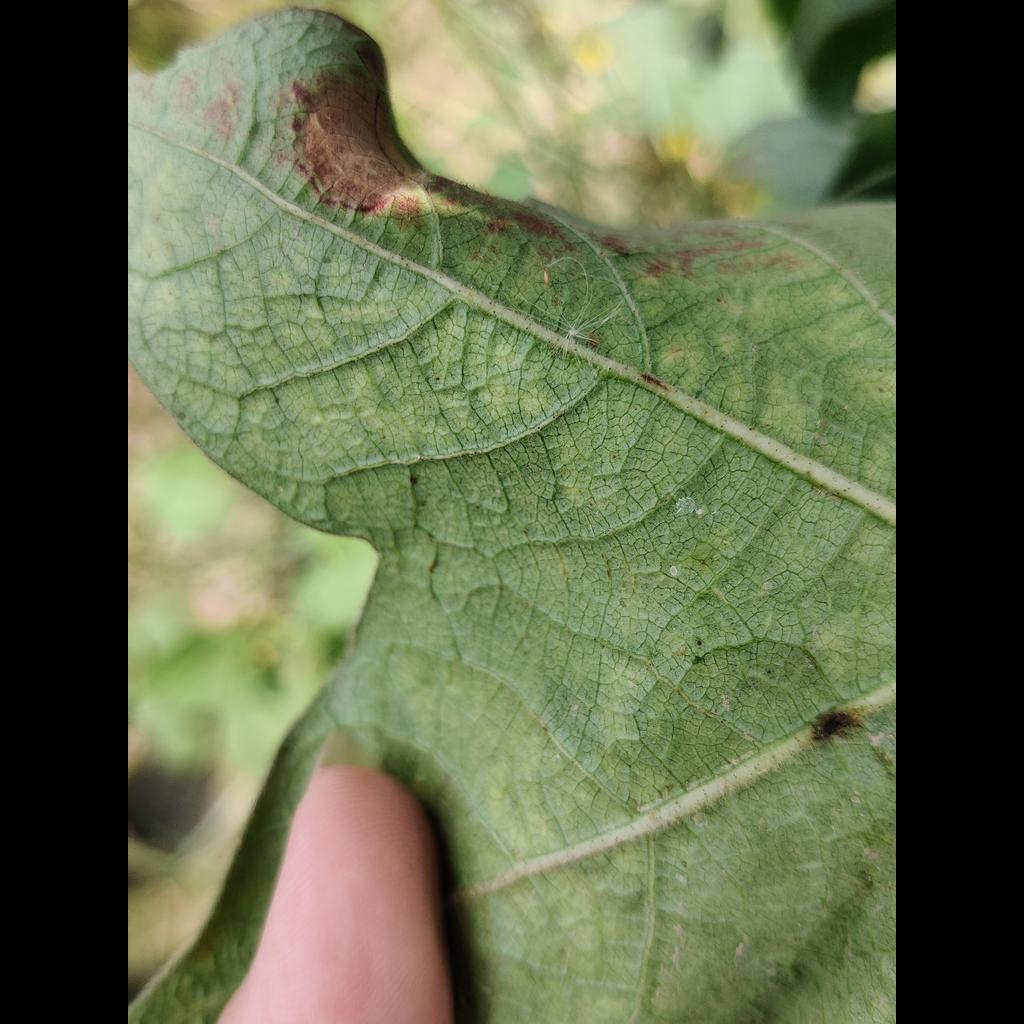nymph: (851, 795, 861, 804), (675, 873, 684, 882), (669, 566, 677, 576), (762, 582, 769, 589), (695, 509, 703, 515)
